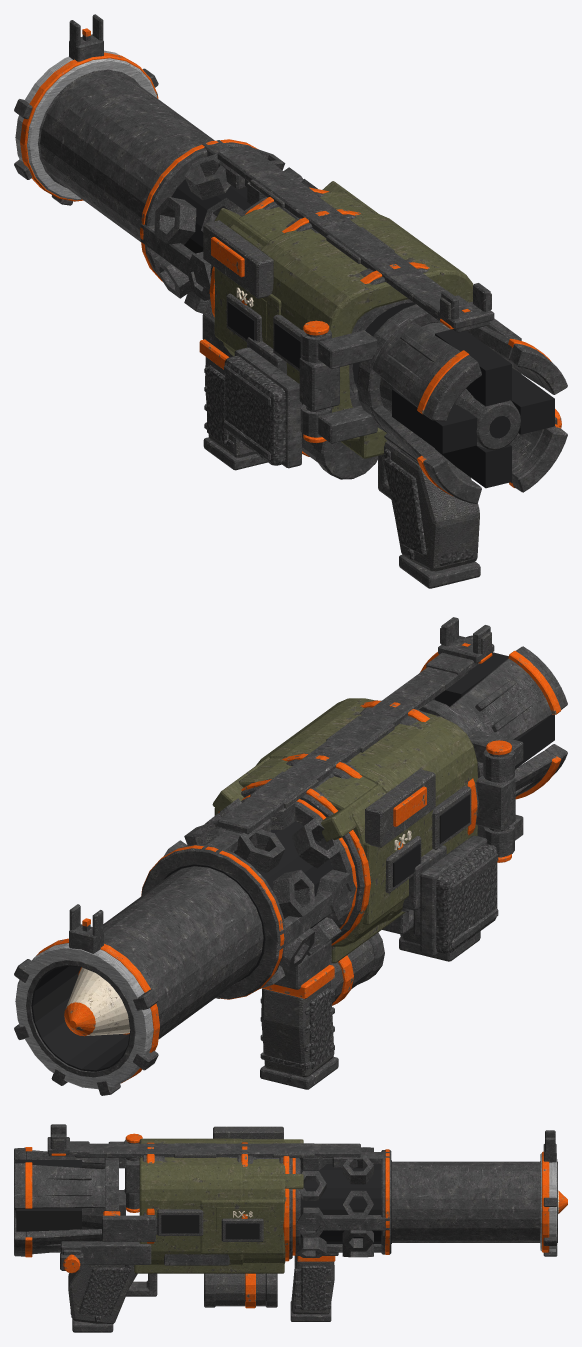
The model's file is torch.glb.
3 views of the same model, one above another, from view 1: azimuth 30°, elevation 25°; view 2: azimuth 150°, elevation 25°; view 3: azimuth 270°, elevation 25° (orthographic). The views are drawn at different scales.
Visible parts, largest first — view 1: body | gunmetal, gate | gunmetal, body | olive drab, body | polymer, gate | cavity black, body | rubber, body | orange paint, body | cavity black, body | machined steel, mag | gunmetal, gate | orange paint; view 2: body | gunmetal, body | olive drab, gate | gunmetal, body | polymer, body | cavity black, body | orange paint, body | rubber, body | machined steel, round | ivory coating, gate | cavity black, gate | orange paint, mag | polymer (+1 smaller); view 3: body | gunmetal, body | olive drab, gate | gunmetal, body | polymer, body | cavity black, body | rubber, body | orange paint, gate | cavity black, mag | polymer, mag | gunmetal, body | machined steel, gate | orange paint (+3 smaller).
Part boxes in pixels (left/top/right/bottom): body | gunmetal: left=14, top=14, right=521, bottom=588; gate | gunmetal: left=300, top=304, right=567, bottom=503; body | olive drab: left=214, top=181, right=473, bottom=458; body | polymer: left=203, top=171, right=491, bottom=571; gate | cavity black: left=392, top=329, right=554, bottom=488; body | rubber: left=204, top=355, right=473, bottom=565; body | orange paint: left=20, top=28, right=470, bottom=443; body | cavity black: left=171, top=179, right=415, bottom=388; body | machined steel: left=15, top=50, right=157, bottom=200; mag | gunmetal: left=314, top=440, right=377, bottom=479; gate | orange paint: left=417, top=338, right=560, bottom=496; body | gunmetal: left=14, top=617, right=515, bottom=1095; body | olive drab: left=212, top=698, right=477, bottom=963; gate | gunmetal: left=419, top=635, right=567, bottom=856; body | polymer: left=250, top=628, right=491, bottom=1077; body | cavity black: left=31, top=794, right=469, bottom=1071; body | orange paint: left=36, top=643, right=511, bottom=1083; body | rubber: left=260, top=843, right=497, bottom=1070; body | machined steel: left=15, top=943, right=153, bottom=1089; round | ivory coating: left=66, top=967, right=130, bottom=1035; gate | cavity black: left=433, top=652, right=554, bottom=769; gate | orange paint: left=420, top=651, right=561, bottom=799; mag | polymer: left=331, top=939, right=374, bottom=1001; body | gunmetal: left=47, top=1124, right=557, bottom=1332; body | olive drab: left=134, top=1138, right=303, bottom=1273; gate | gunmetal: left=14, top=1139, right=139, bottom=1256; body | polymer: left=52, top=1126, right=334, bottom=1323; body | cavity black: left=161, top=1160, right=391, bottom=1243; body | rubber: left=70, top=1256, right=331, bottom=1321; body | orange paint: left=51, top=1133, right=549, bottom=1261; gate | cavity black: left=14, top=1160, right=81, bottom=1231; mag | polymer: left=215, top=1273, right=265, bottom=1306; mag | gunmetal: left=204, top=1273, right=277, bottom=1307; body | machined steel: left=540, top=1153, right=556, bottom=1251; gate | orange paint: left=25, top=1147, right=120, bottom=1257.
Size of the model in its own units: 0.245 by 0.327 by 0.843.
8 materials, 7 textured.
